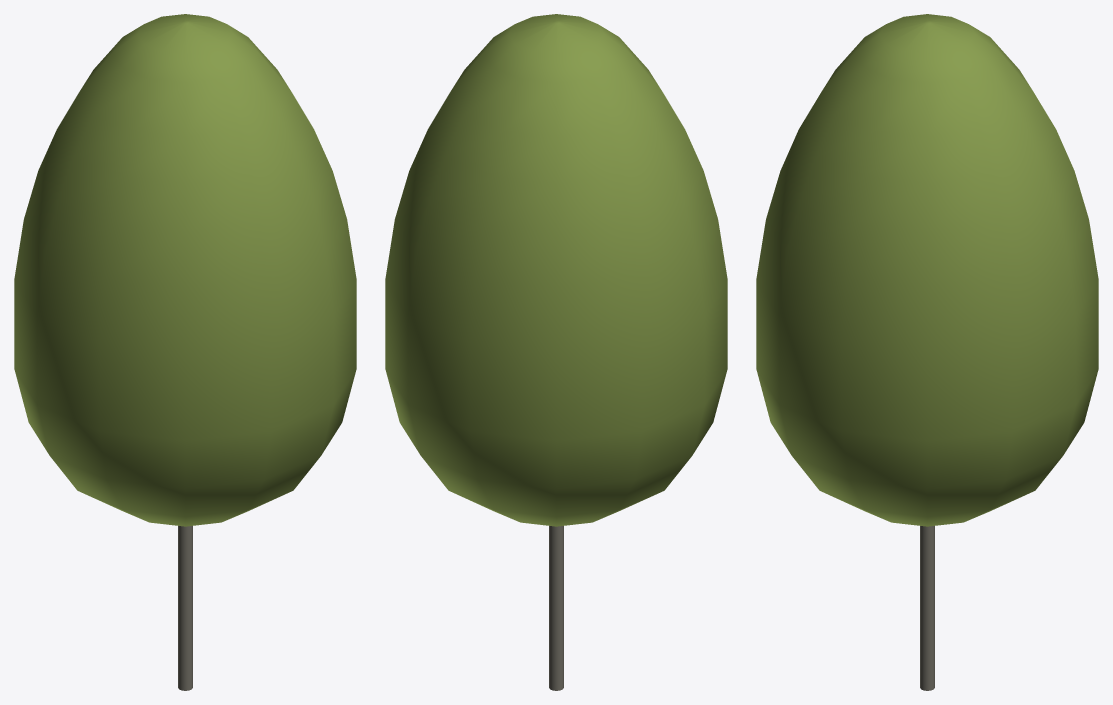
The model's file is Palm_Lily_Analytical_0.obj.
3 renders of one model, left to right at view 1: azimuth 30°, elevation 25°; view 2: azimuth 150°, elevation 25°; view 3: azimuth 270°, elevation 25°, orthographic.
Parts seen in each view (by area): view 1: AnalyticalCrown, AnalyticalTrunk; view 2: AnalyticalCrown, AnalyticalTrunk; view 3: AnalyticalCrown, AnalyticalTrunk.
Boxes of the visible parts, left/top/right/bottom form: AnalyticalCrown: left=14, top=14, right=356, bottom=526; AnalyticalTrunk: left=178, top=526, right=192, bottom=690; AnalyticalCrown: left=385, top=14, right=727, bottom=526; AnalyticalTrunk: left=549, top=526, right=563, bottom=690; AnalyticalCrown: left=756, top=14, right=1098, bottom=526; AnalyticalTrunk: left=920, top=526, right=934, bottom=690.
Size of the model in its own units: 1.4 by 3 by 1.4.
